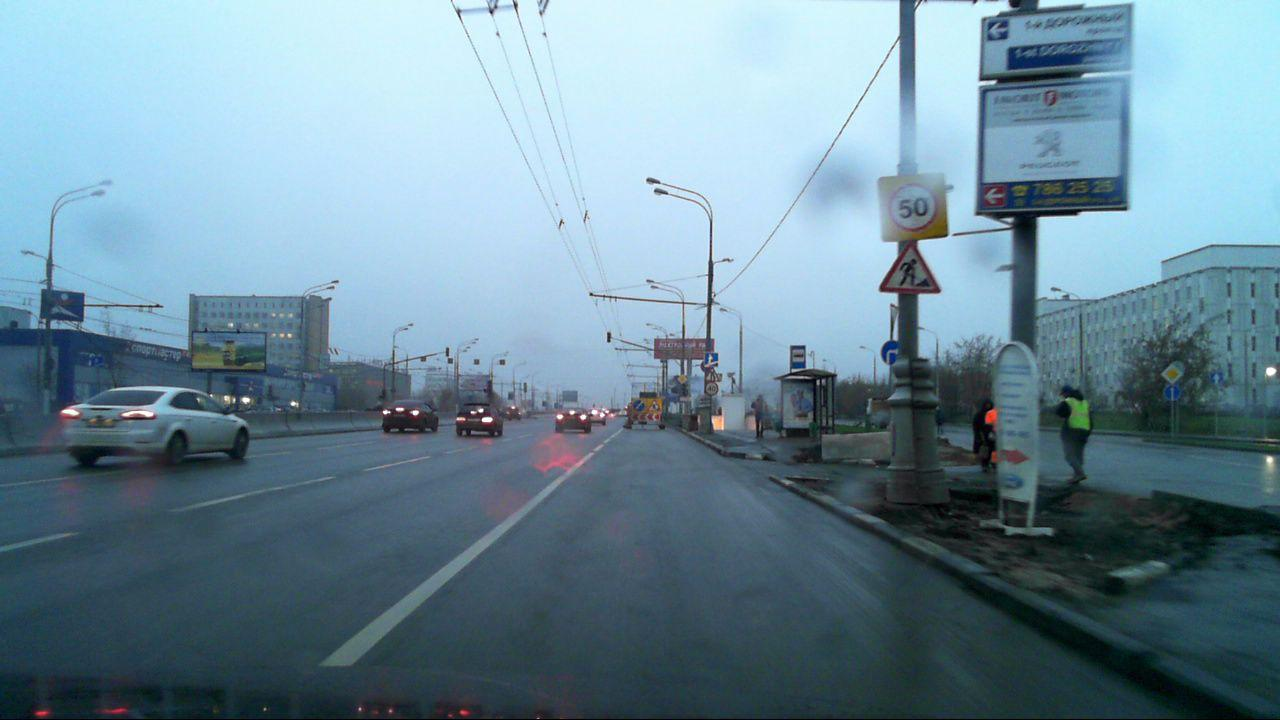obstructed_road_sign: (880, 341, 899, 364)
road_sign: (875, 171, 952, 246), (877, 237, 943, 294), (1160, 363, 1185, 385), (790, 344, 807, 370), (702, 366, 723, 383), (1163, 385, 1181, 401), (703, 351, 718, 368), (705, 381, 719, 396)
